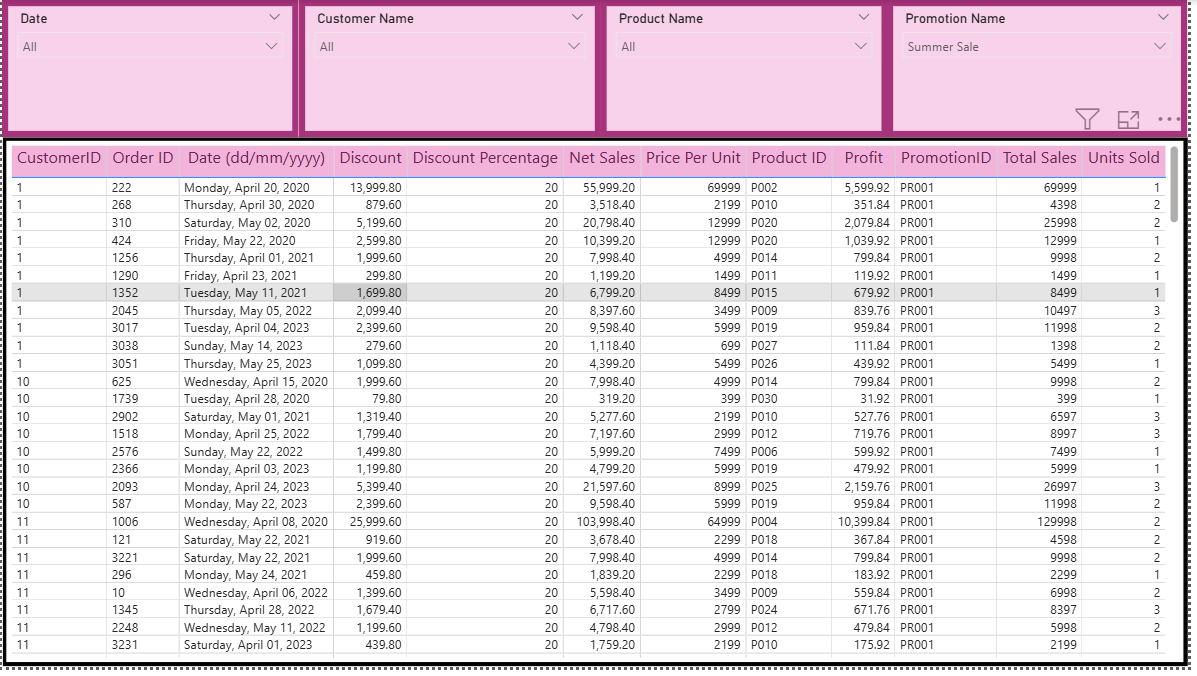

Layout of this report page (visuals, bound fields, positions):
{"tool":"powerbi","page":{"name":"Table vis","canvas":[1280,720],"ordinal":4},"visuals":[{"type":"tableEx","fields":{"Values":["Fact Table.CustomerID","Fact Table.Order ID","Fact Table.Date (dd/mm/yyyy)","Fact Table.Discount","Fact Table.Discount Percentage","Fact Table.Net Sales       ","Fact Table.Price Per Unit","Fact Table.Product ID","Fact Table.Profit ","Fact Table.PromotionID","Fact Table.Total Sales   ","Fact Table.Units Sold"]},"box":[0,148,1280,572],"z":0},{"type":"slicer","fields":{"Values":["Date Table 1.Date"]},"box":[0,0,320,148],"z":1000},{"type":"slicer","fields":{"Values":["Dim Customers.Customer Name"]},"box":[320,0,326,148],"z":2000},{"type":"slicer","fields":{"Values":["Dim Product.Product Name"]},"box":[646,0,310,148],"z":3000},{"type":"slicer","fields":{"Values":["Dim Promotion.Promotion Name"]},"box":[956,0,324,148],"z":4000}]}

Visuals, with their boxes in screenshot pixels (x1, y1, x2, y2):
tableEx - Fact Table.CustomerID x Fact Table.Order ID: l=0, t=136, r=1180, b=664
slicer - Date Table 1.Date: l=0, t=0, r=295, b=136
slicer - Dim Customers.Customer Name: l=295, t=0, r=596, b=136
slicer - Dim Product.Product Name: l=596, t=0, r=882, b=136
slicer - Dim Promotion.Promotion Name: l=882, t=0, r=1180, b=136
